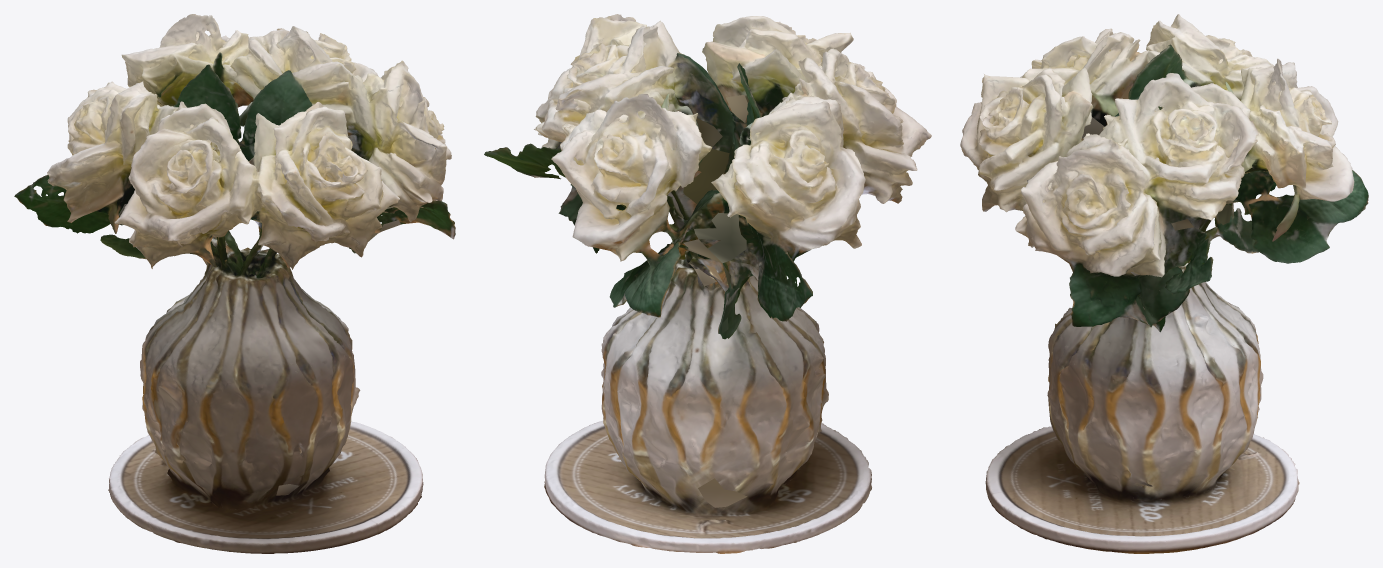
The model's file is bouquet_roses_blanches.glb.
3 views of the same model, side by side, from view 1: azimuth 30°, elevation 25°; view 2: azimuth 150°, elevation 25°; view 3: azimuth 270°, elevation 25° (orthographic). The views are drawn at different scales.
Visible parts, largest first — view 1: Object_4, Object_3, Object_2, Object_5; view 2: Object_4, Object_3, Object_2, Object_5; view 3: Object_4, Object_2, Object_5, Object_3.
Boxes of the visible parts, box(x1,y1,x2,y2) form: Object_4: box(68, 16, 423, 553); Object_3: box(14, 43, 455, 532); Object_2: box(122, 14, 455, 257); Object_5: box(257, 35, 444, 490); Object_4: box(544, 66, 922, 553); Object_3: box(547, 16, 931, 542); Object_2: box(484, 14, 722, 307); Object_5: box(544, 17, 765, 535); Object_4: box(985, 16, 1368, 544); Object_2: box(1015, 58, 1354, 327); Object_5: box(977, 74, 1297, 553); Object_3: box(960, 14, 1297, 513).
Size of the model in its own units: 0.2614 by 0.3054 by 0.2595.
Materials: 1 (1 with a texture image).
